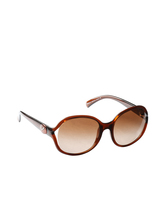glasses: (13, 96, 152, 153)
